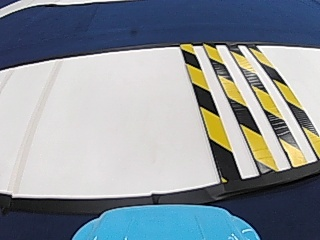bump: (178, 48, 315, 166)
